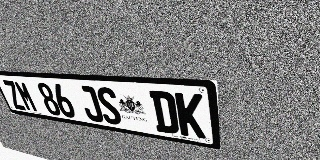6: (50, 83, 77, 119)
8: (35, 82, 62, 116)
D: (149, 90, 180, 135)
J: (76, 85, 105, 123)
K: (175, 92, 206, 139)
M: (13, 81, 39, 113)
S: (94, 86, 123, 126)
Z: (2, 80, 27, 111)
